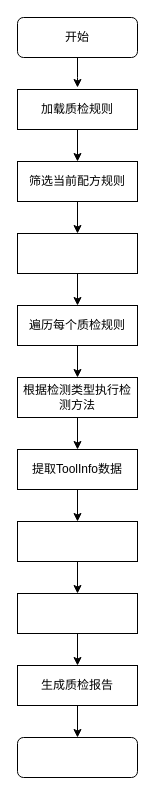
Image size: 155x795. Some labels were removed from this diagram. Here are the shapes that lost their labels. From the top down, the box of each, then its label:
(16, 232, 138, 274): 按检测类型排序
(16, 520, 138, 562): 判断是否在检测范围内
(16, 592, 138, 634): 分类到GoodRules或BadRules
(16, 736, 138, 778): 结束
